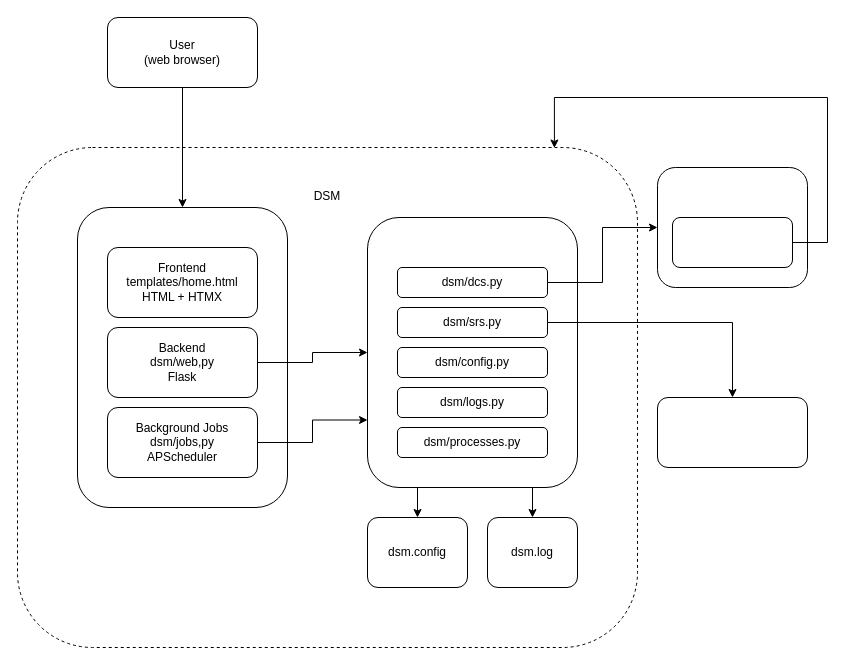
The diagram is 853 pixels wide and 665 high, and some of its shapes have lost their labels. The shapes that lost their labels are listed below. From the top down, each one's box as (x1, y1, x2, y2) in pixels, then its label:
(656, 166, 808, 288): DCS Server
(672, 216, 792, 268): dsm_hooks.lua
(76, 206, 288, 508): Web UI
(366, 216, 578, 488): Helpers
(656, 396, 808, 468): SRS Server
